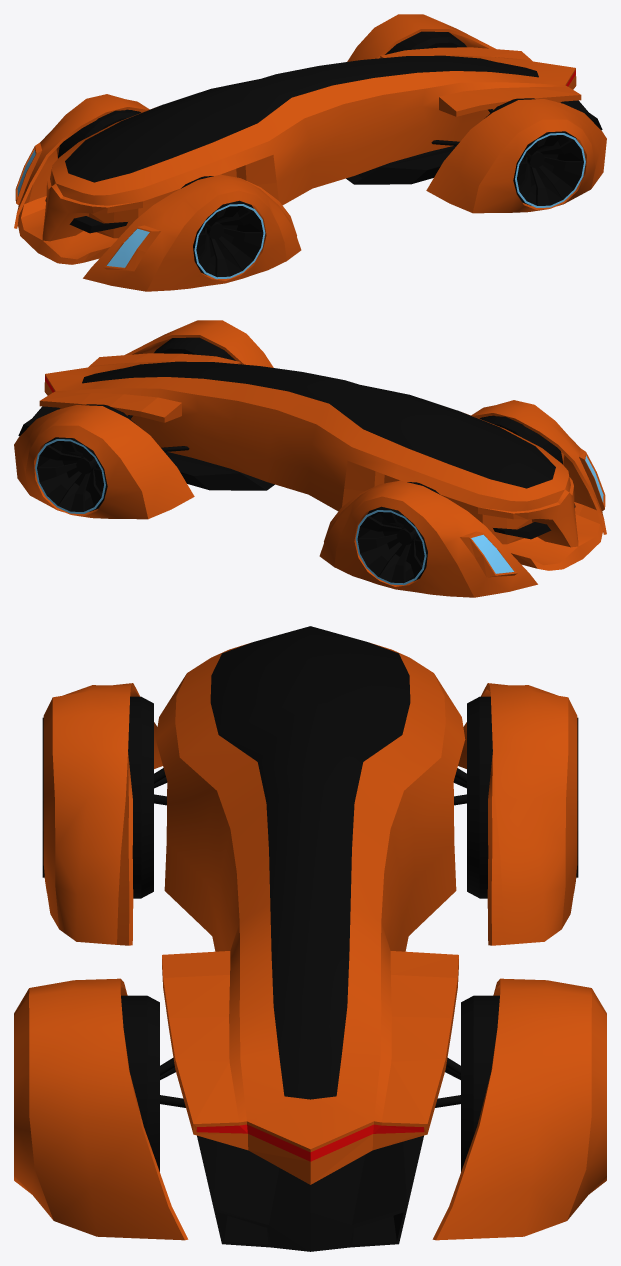
File: Car.FBX
The picture shows the model from 3 angles, top to bottom: view 1: azimuth 30°, elevation 25°; view 2: azimuth 150°, elevation 25°; view 3: azimuth 270°, elevation 25°; orthographic projection. The views are drawn at different scales.
Parts seen in each view (by area): view 1: Plane001; view 2: Plane001; view 3: Plane001.
Part boxes in pixels (x1=…): Plane001: x1=14, y1=14, x2=606, y2=291; Plane001: x1=14, y1=320, x2=606, y2=597; Plane001: x1=14, y1=626, x2=606, y2=1251.
Bounding box in the file's own units: 362 × 86.19 × 174.
